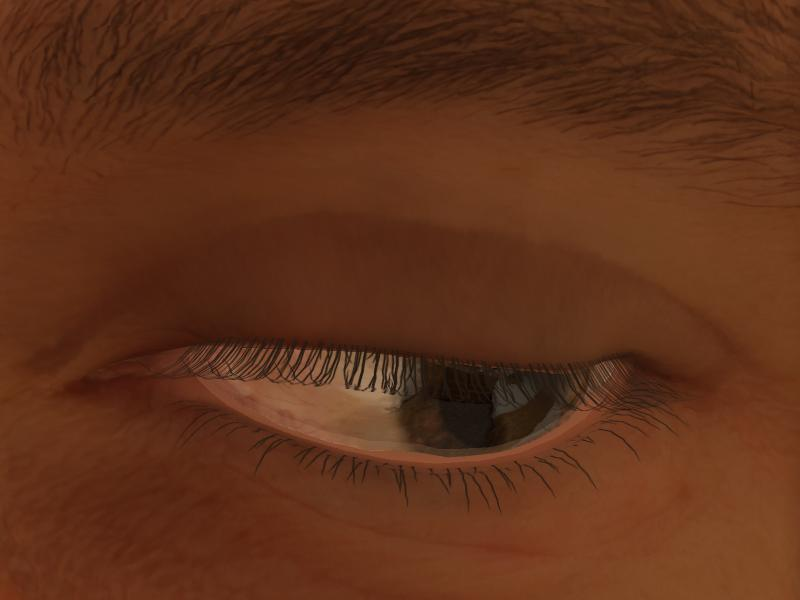eye: (402, 353, 587, 455)
